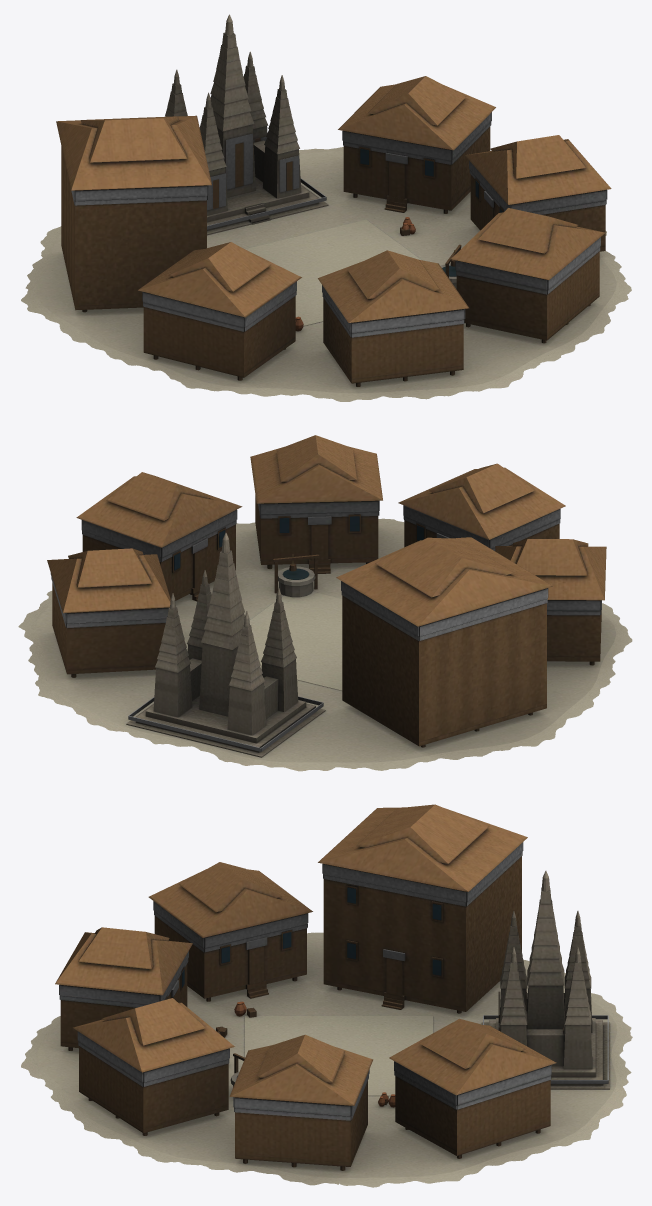
The model's file is kingdoms-town-small-a-monsoon.glb.
The picture shows the model from 3 angles, top to bottom: view 1: azimuth 30°, elevation 25°; view 2: azimuth 150°, elevation 25°; view 3: azimuth 270°, elevation 25°; orthographic projection.
Visible parts, largest first — view 1: LOD0; view 2: LOD0; view 3: LOD0.
Boxes of the visible parts, box(x1,y1,x2,y2) form: LOD0: box(21, 14, 631, 401); LOD0: box(18, 435, 632, 771); LOD0: box(21, 804, 632, 1187).
Size of what is drawn, in the model's own units: 3.97 by 1.34 by 3.98.
3 materials, 3 textured.
